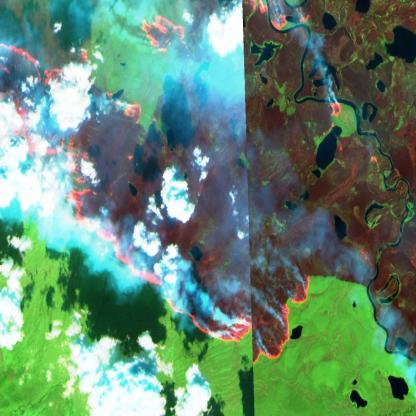fire: (0, 0, 353, 371)
